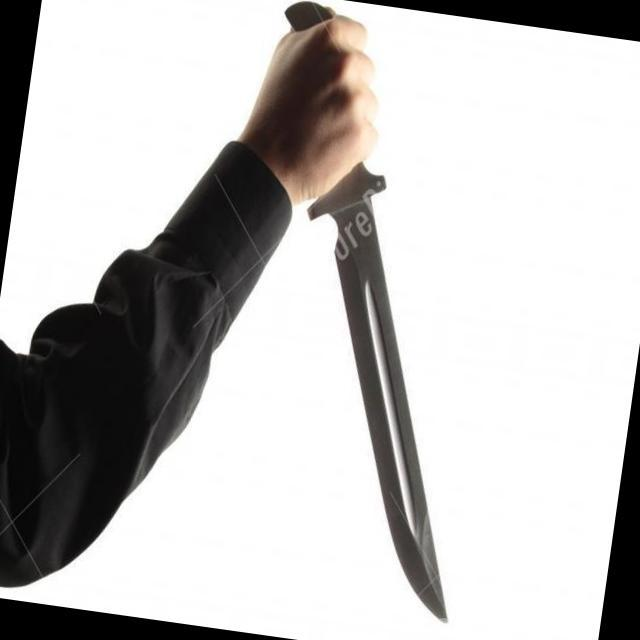Knife: (239, 43, 542, 640)
